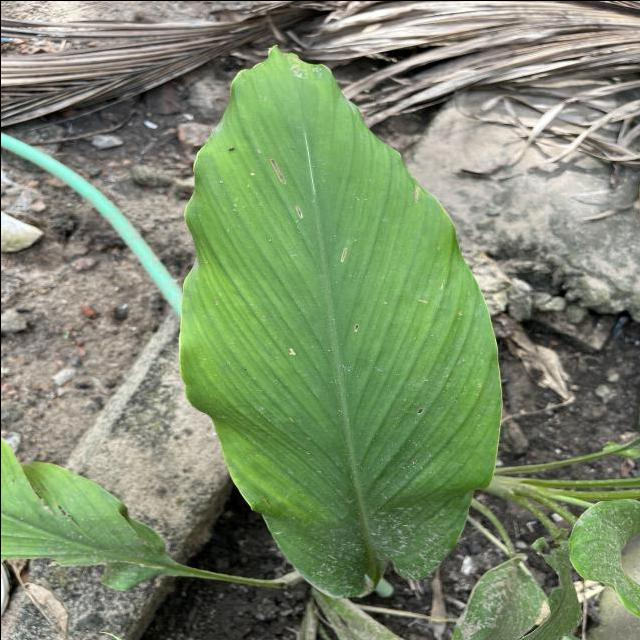Curcuma longa: (174, 43, 504, 604)
